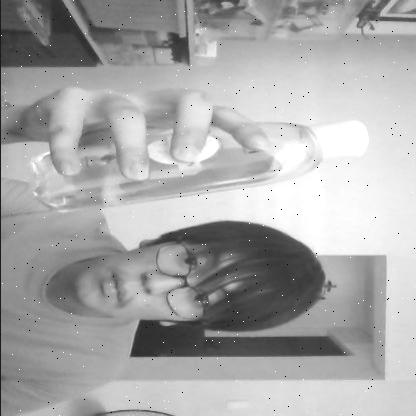Plastic Bottle: (23, 114, 371, 218)
